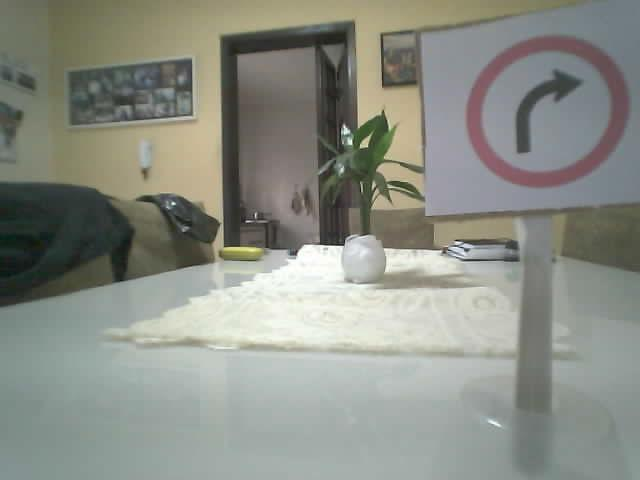R-25b_direita: (462, 34, 625, 186)
